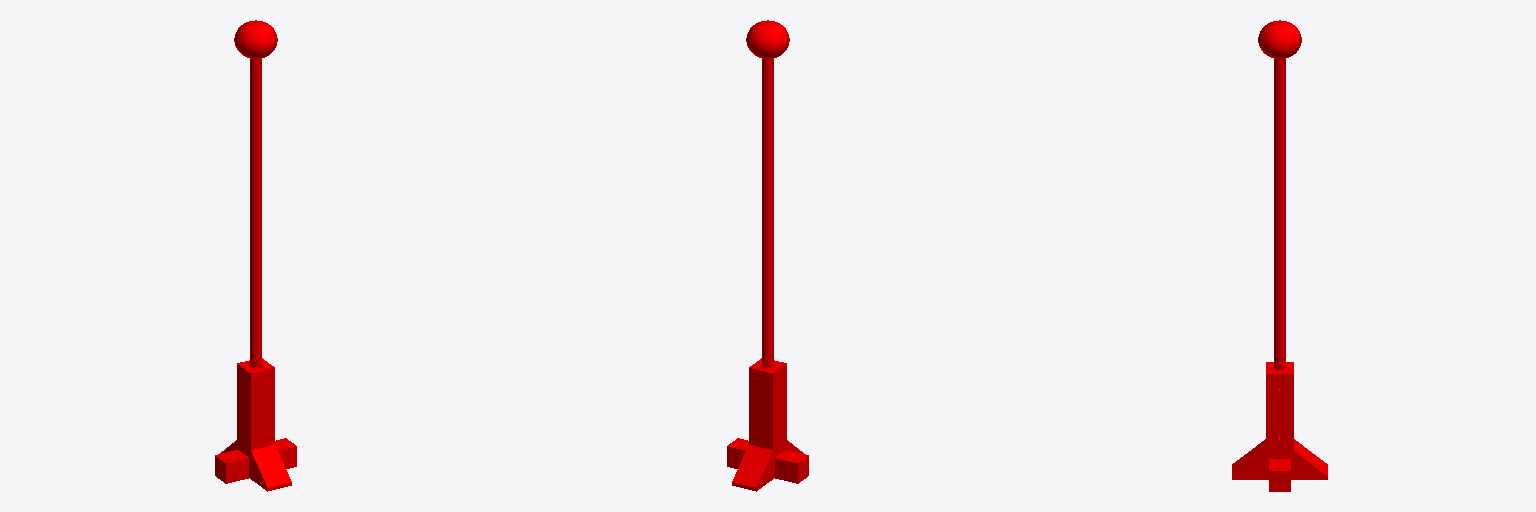
The robot description file, URDF, robot "static_mallet_holder":
<?xml version="1.0"?>
<robot name="static_mallet_holder">
    <link name="mallet_head">
        <collision>
            <origin xyz="0.0 0.0 0.013625" rpy="0.0 0.0 0.0"/>
            <!-- 0.018375 -->
            <geometry>
                <sphere radius="0.018375"/>
            </geometry>
        </collision>
    </link>

    <link name="mallet_neck">
        <collision>
            <origin xyz="0.0 0.0 0.1825" rpy="0.0 0.0 0.0"/>
            <geometry>
                <cylinder radius="0.0042" length="0.375"/>
            </geometry>
        </collision>
    </link>

    <link name="base_link">
        <visual>
            <origin xyz="0.0 0.0 0.0" rpy="0.0 0.0 0.0"/>
            <geometry>
                <mesh filename="package://marimbabot_description/mesh/static_mallet_holder.stl" scale="0.001 0.001 0.001"/>
            </geometry>
            <material name="mallet_holder_red">
                <color rgba="1.0 0.0 0.0 0.5"/>
            </material>
        </visual>
        <collision>
            <origin xyz="0.0 0.0 0.0496" rpy="0.0 0.0 0.0"/>
            <geometry>
                <box size="0.024 0.024 0.0992"/>
            </geometry>
        </collision>
    </link>

    <joint name="group_1_start_link" type="fixed">
        <parent link="base_link"/>
        <child link="mallet_neck"/>
        <origin xyz="0.0 0.0 0.0292"/>
    </joint>

    <joint name="group_1_2nd_link" type="fixed">
        <parent link="mallet_neck"/>
        <child link="mallet_head"/>
        <origin xyz="0.0 0.0 0.365"/>
    </joint>
</robot>

--- Facts derived from the render (not from the file) ---
The picture shows the robot from 3 angles, left to right: view 1: azimuth 30°, elevation 25°; view 2: azimuth 150°, elevation 25°; view 3: azimuth 270°, elevation 25°; orthographic projection.
Model static_mallet_holder with 3 links and 2 joints (2 fixed), rooted at base_link, posed all joints at 0.
Links seen in each view (by area): view 1: base_link; view 2: base_link; view 3: base_link.
Link boxes in pixels (<box>): base_link: <box>215,20,296,491</box>; base_link: <box>727,20,808,491</box>; base_link: <box>1232,20,1327,491</box>.
Size in the robot's own frame: 0.07 by 0.0806 by 0.4212 metres.
1 mesh visuals loaded from 1 distinct referenced files (1 binary STL).